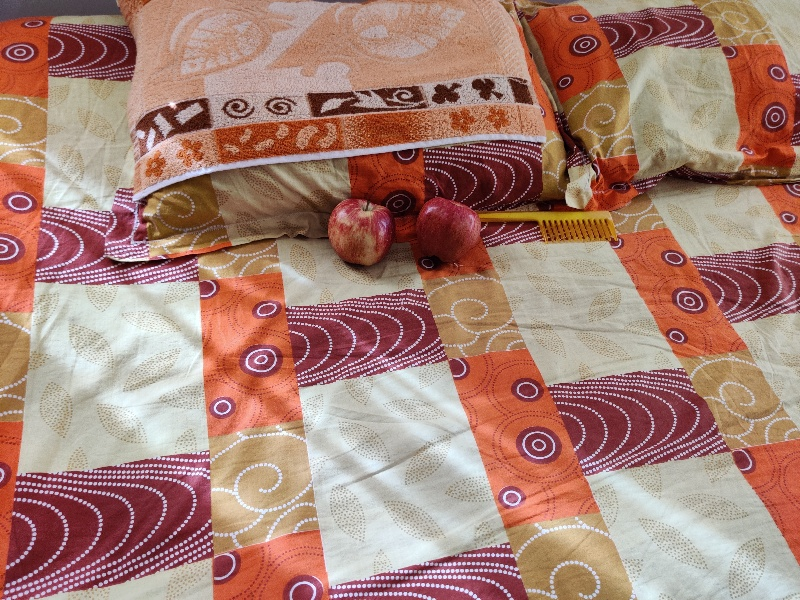apple: (409, 195, 491, 265), (327, 188, 393, 264)
